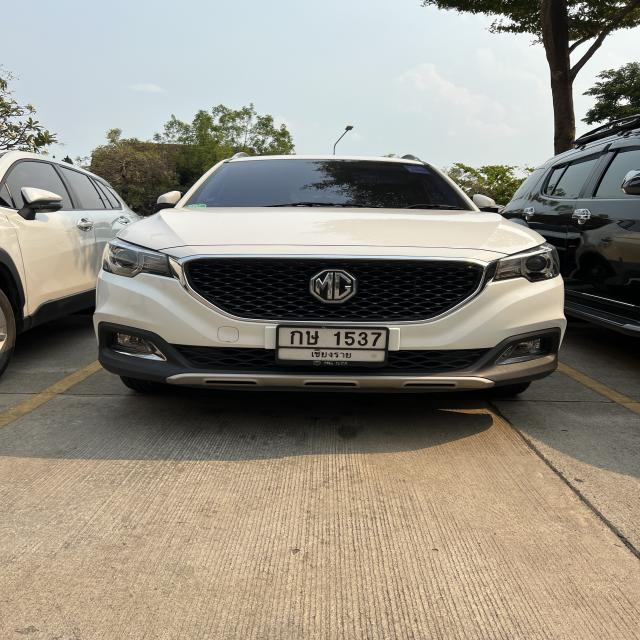license_plate: (275, 323, 390, 367)
